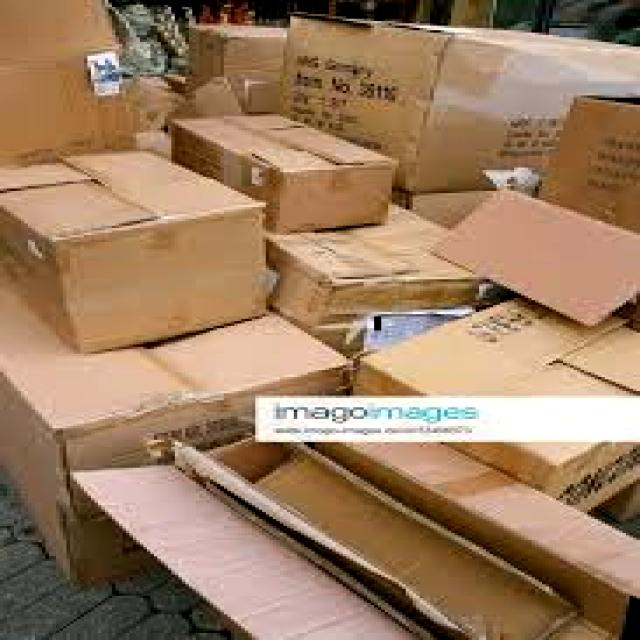Cardboard: (67, 405, 640, 640), (270, 9, 640, 188), (418, 182, 640, 331)
